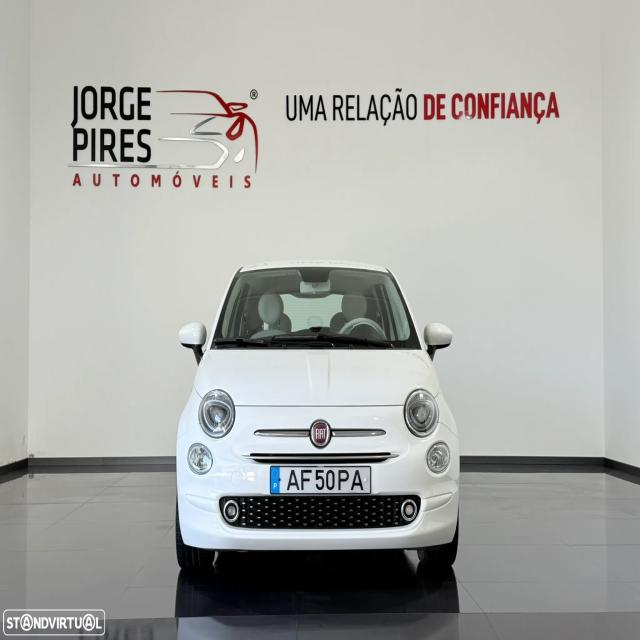portuguese-license-plates: (271, 467, 371, 493)
